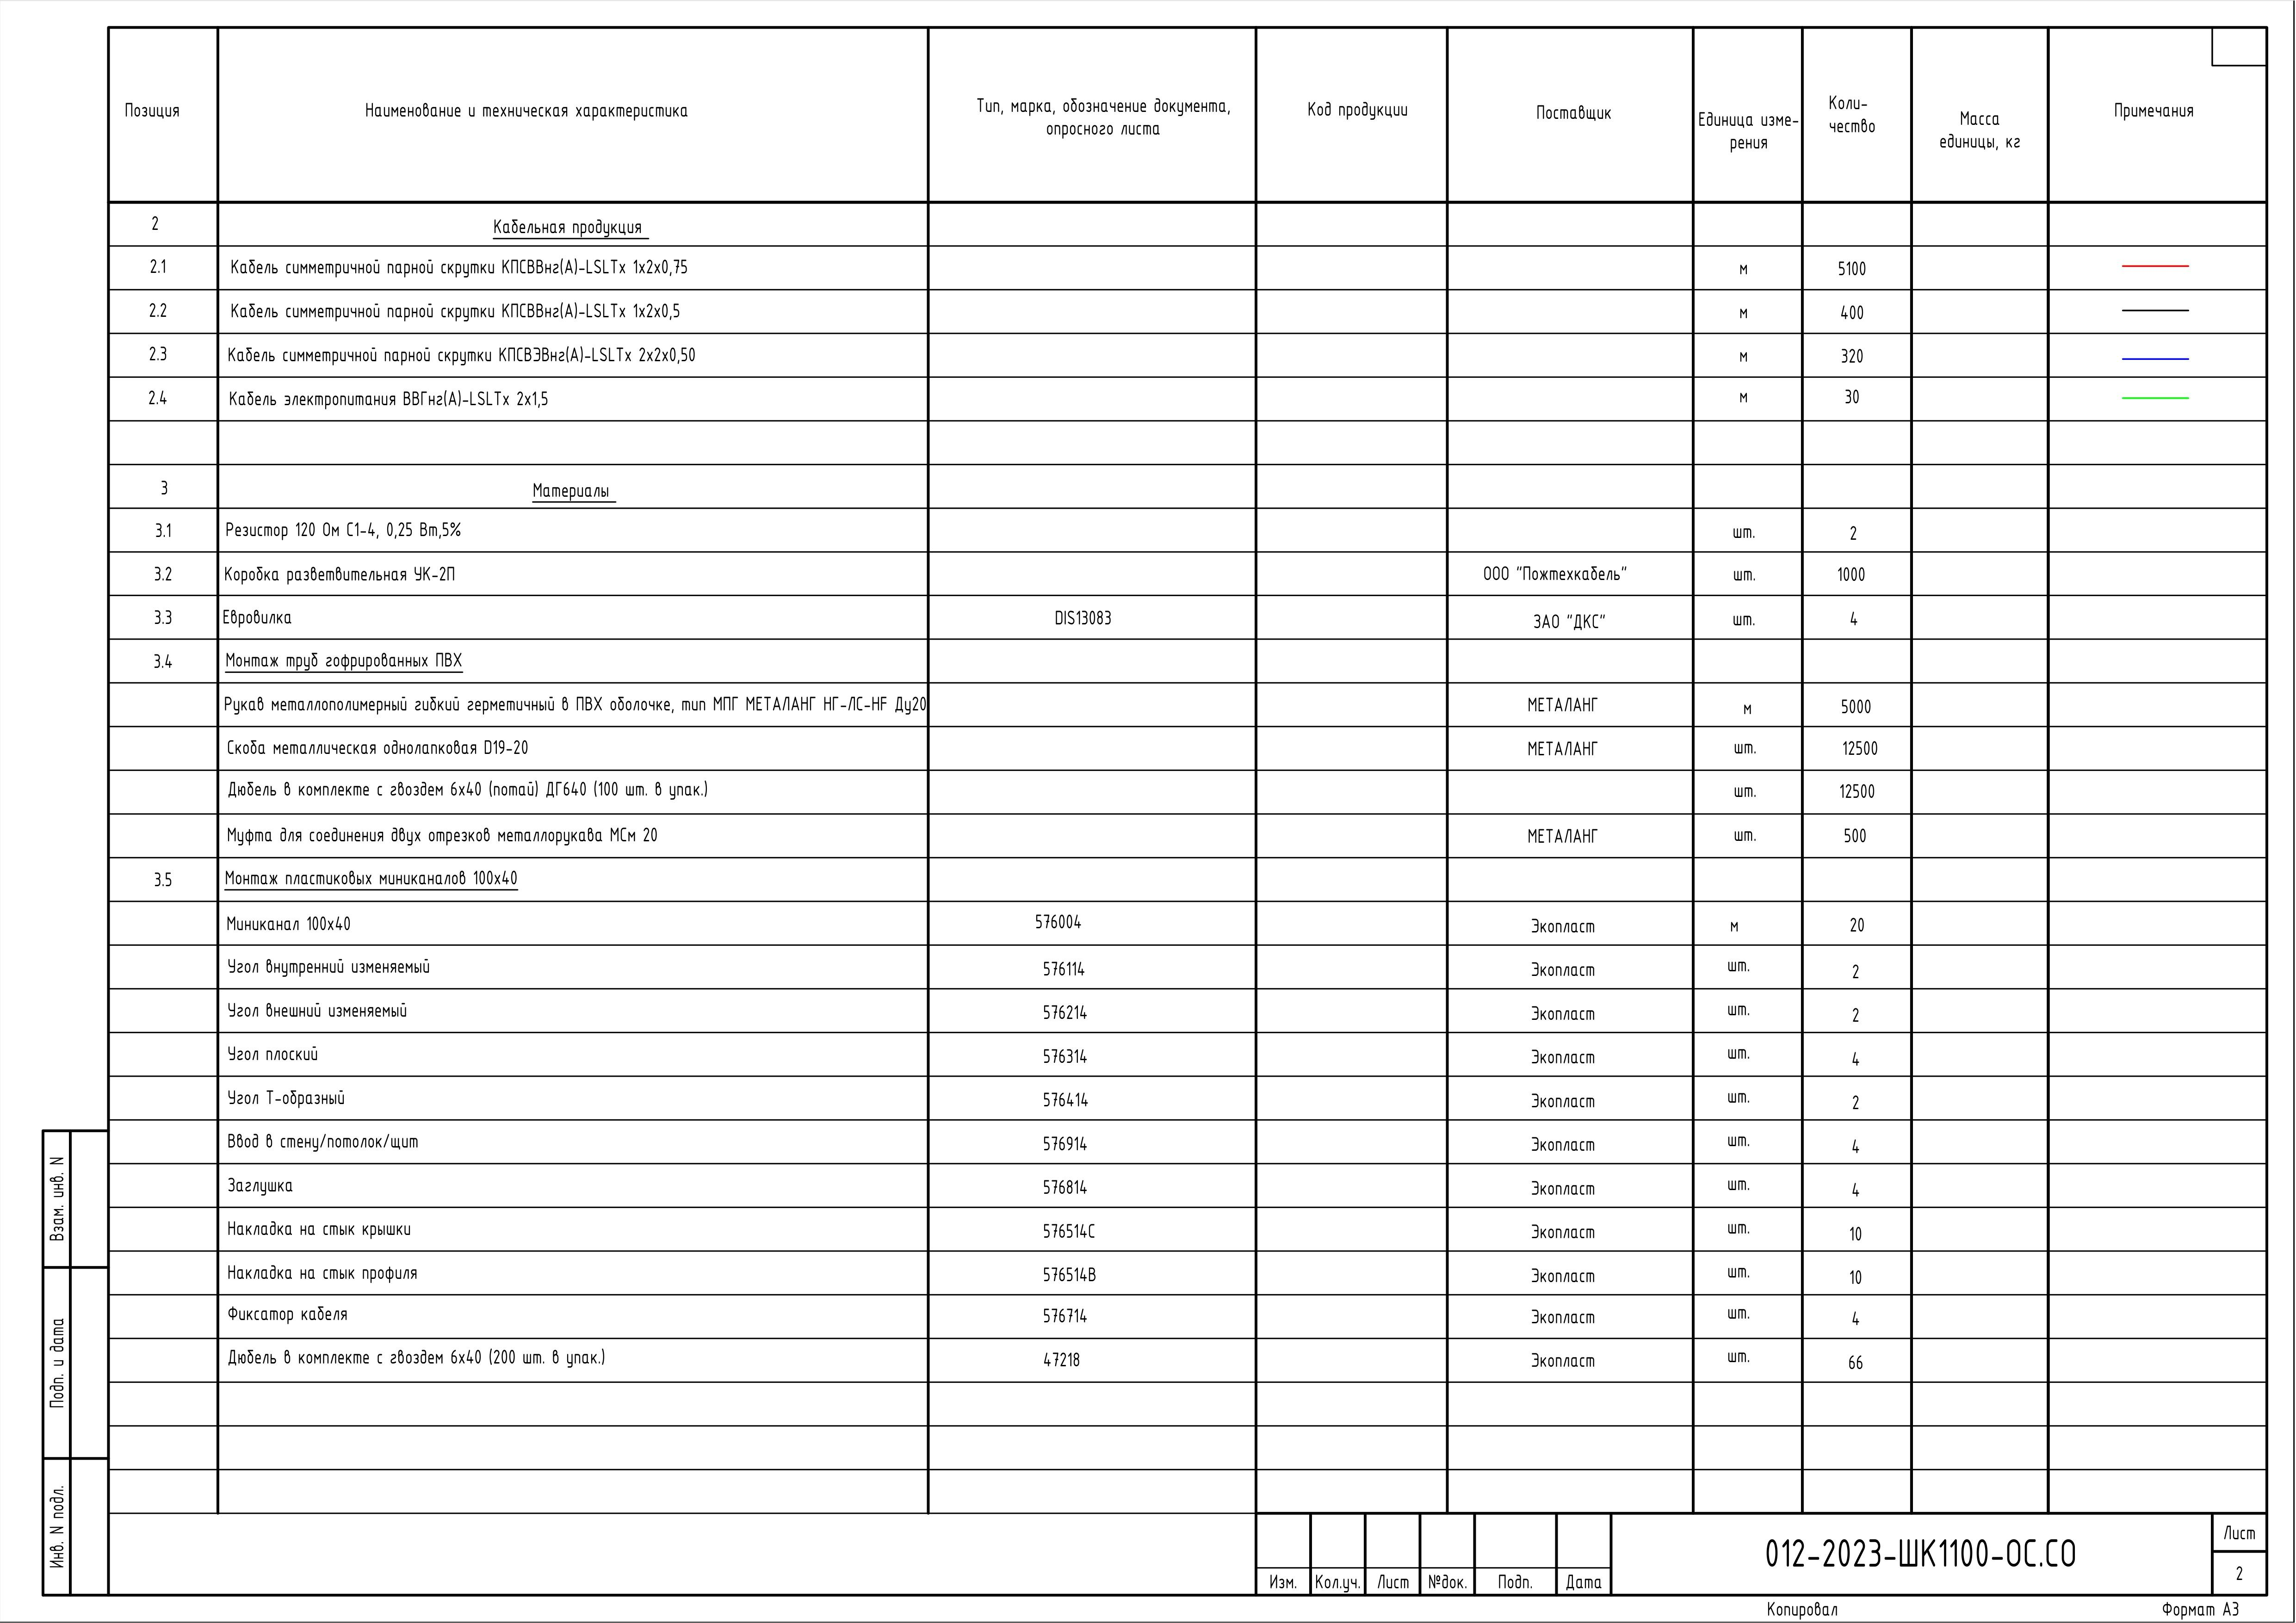Name of costs: (217, 202, 930, 1513)
Note: (928, 200, 1256, 1514)
Quantity: (1803, 202, 1912, 1515)
Unit of measurement: (1693, 202, 1802, 1512)
